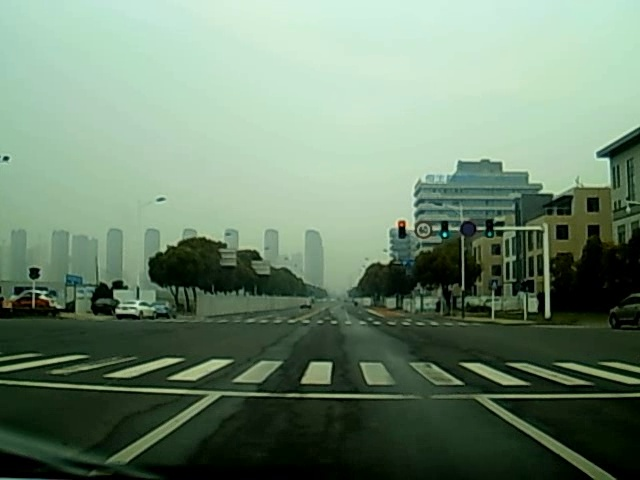Traffic_Light_go: (485, 218, 494, 239), (441, 221, 448, 242)
Traffic_Light_stop: (397, 221, 407, 240)
